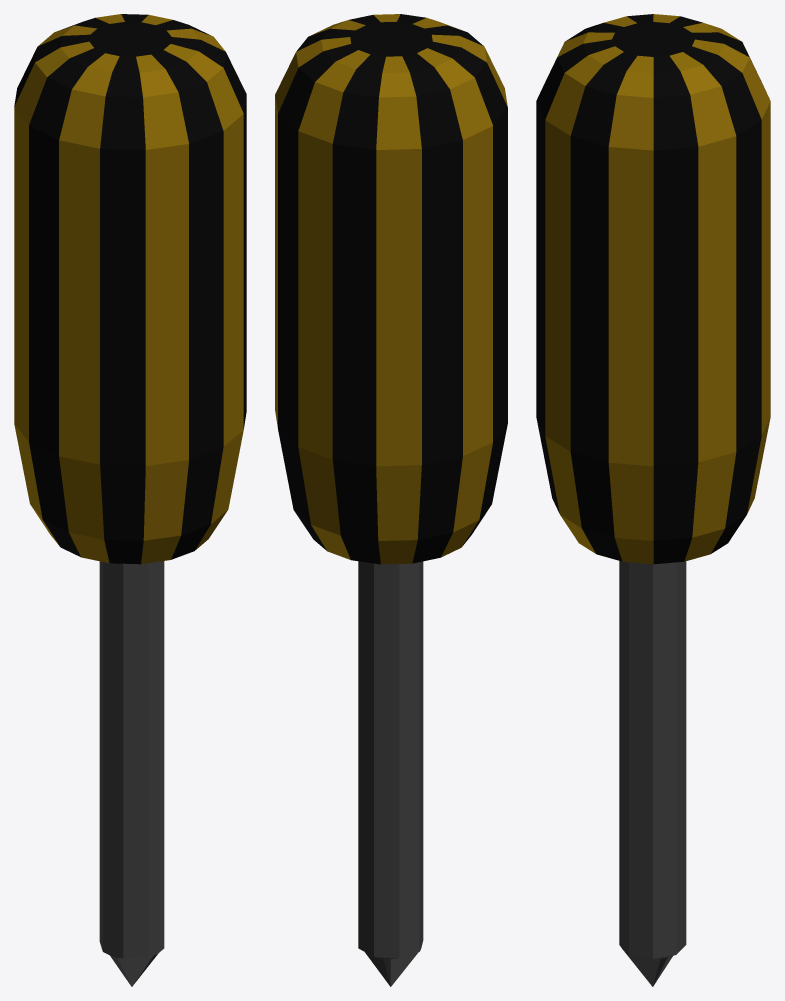
Rendered from schroefdraaier.obj.
3 renders of one model, left to right at view 1: azimuth 30°, elevation 25°; view 2: azimuth 150°, elevation 25°; view 3: azimuth 270°, elevation 25°, orthographic.
Parts seen in each view (by area): view 1: Cylinder.001_Cylinder.002; view 2: Cylinder.001_Cylinder.002; view 3: Cylinder.001_Cylinder.002.
Boxes of the visible parts, x1,y1,x2,y2 form: Cylinder.001_Cylinder.002: (14,14,246,986); Cylinder.001_Cylinder.002: (275,14,507,986); Cylinder.001_Cylinder.002: (536,14,770,986).
Size of the model in its own units: 1 by 4.46 by 1.
